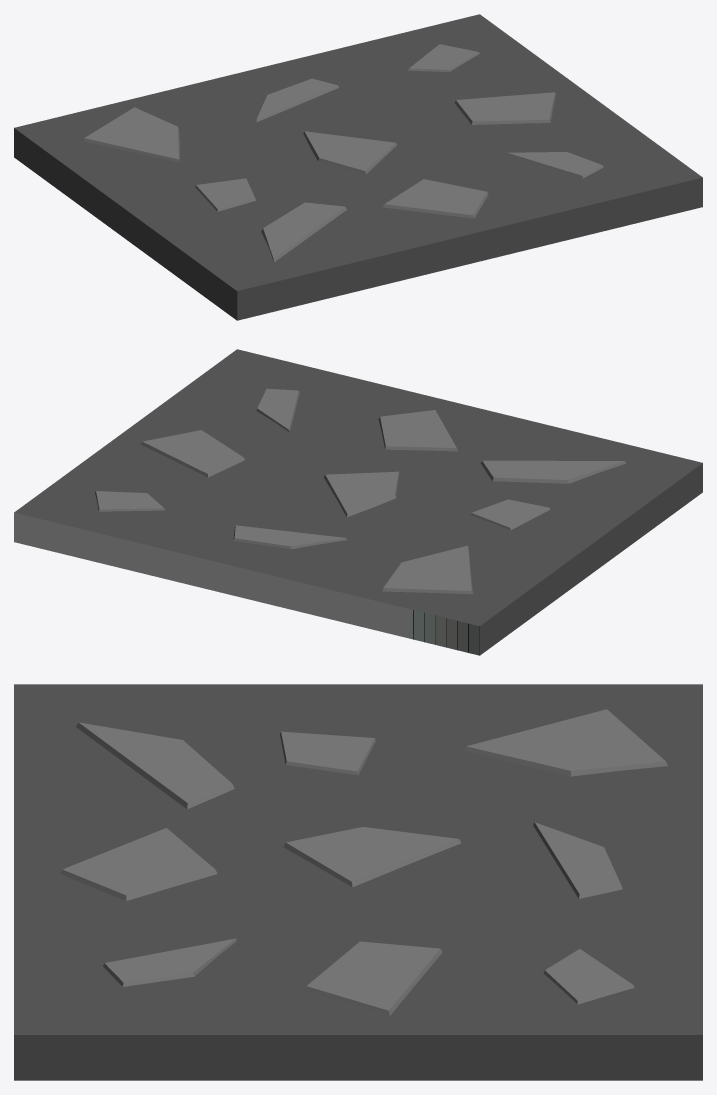
The model's file is dungeon_modules_floor.glb.
3 renders of one model, top to bottom at view 1: azimuth 30°, elevation 25°; view 2: azimuth 150°, elevation 25°; view 3: azimuth 270°, elevation 25°, orthographic. The views are drawn at different scales.
Visible parts, largest first — view 1: Cube.008; view 2: Cube.008; view 3: Cube.008.
Part boxes in pixels (box(x1,y1,x2,y2)): Cube.008: box(14, 14, 702, 320); Cube.008: box(14, 349, 702, 655); Cube.008: box(14, 684, 702, 1080).
Bounding box in the file's own units: 2.69 × 0.1809 × 2.23.
Materials: 1 (1 with a texture image).
